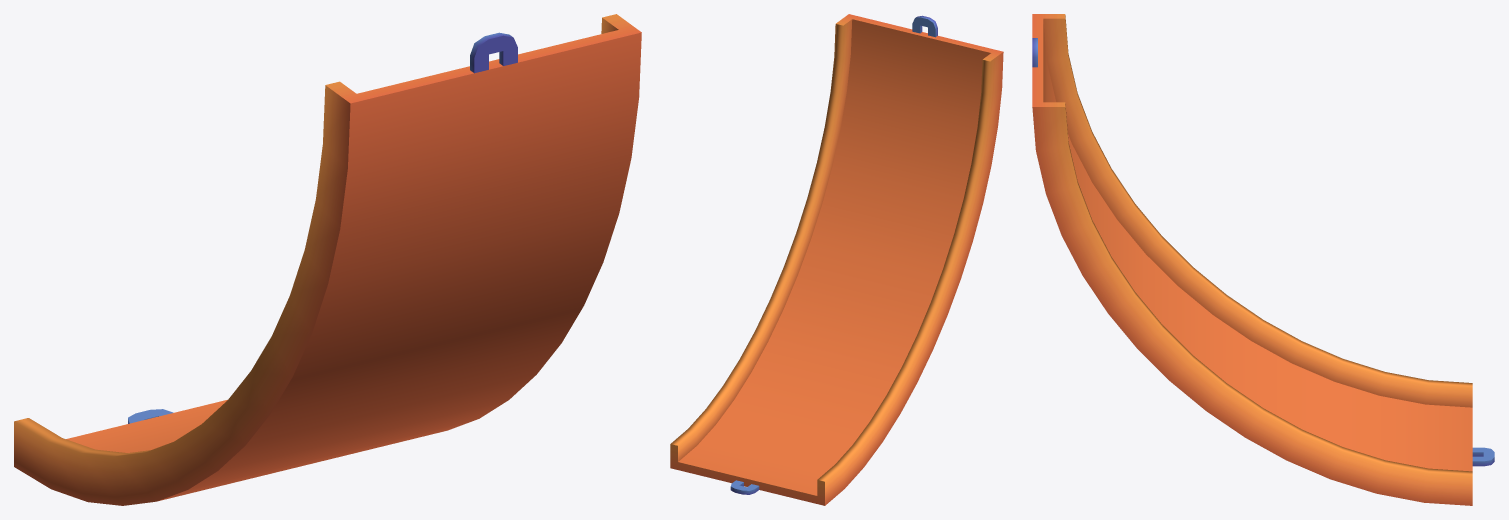
The model's file is kenney-toy-car-track-wide-straight-bend-large.glb.
The picture shows the model from 3 angles, left to right: view 1: azimuth 30°, elevation 25°; view 2: azimuth 150°, elevation 25°; view 3: azimuth 270°, elevation 25°; orthographic projection. The views are drawn at different scales.
Visible parts, largest first — view 1: track-wide-straight-bend-large; view 2: track-wide-straight-bend-large; view 3: track-wide-straight-bend-large.
Boxes of the visible parts, x1,y1,x2,y2 form: track-wide-straight-bend-large: (14,14,641,505); track-wide-straight-bend-large: (670,14,1003,505); track-wide-straight-bend-large: (1032,14,1494,505).
Size of the model in its own units: 2 by 4.2 by 4.2.
1 material, 1 textured.
